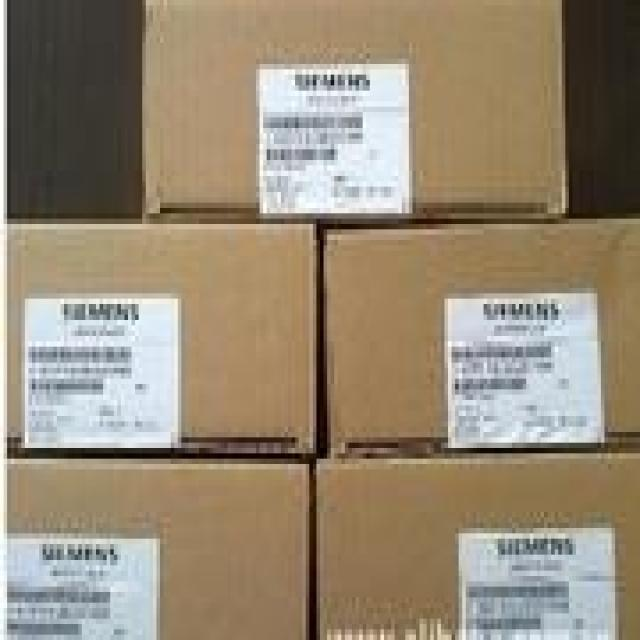box: (145, 3, 567, 220), (320, 219, 636, 459), (6, 223, 319, 454), (315, 448, 636, 635), (5, 458, 312, 635)
